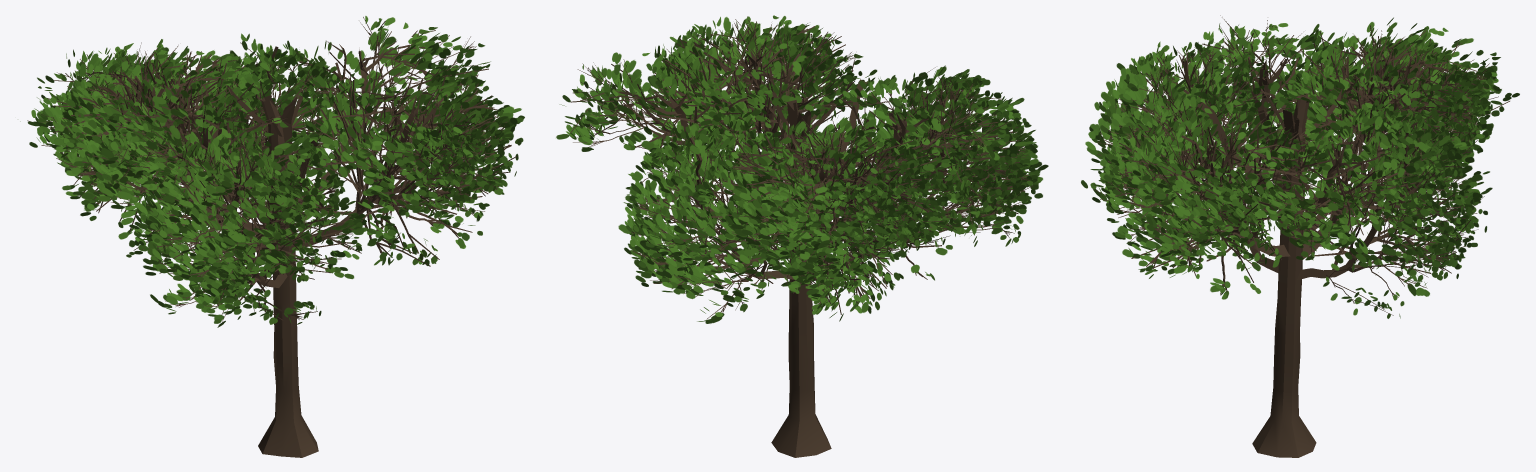
3 views of the same model, side by side, from view 1: azimuth 30°, elevation 25°; view 2: azimuth 150°, elevation 25°; view 3: azimuth 270°, elevation 25° (orthographic).
Parts seen in each view (by area): view 1: oak 01.001_trunk_Mat.001_0.084; view 2: oak 01.001_trunk_Mat.001_0.084; view 3: oak 01.001_trunk_Mat.001_0.084.
Boxes of the visible parts, x1,y1,x2,y2 form: oak 01.001_trunk_Mat.001_0.084: (20, 16, 524, 457); oak 01.001_trunk_Mat.001_0.084: (556, 15, 1048, 457); oak 01.001_trunk_Mat.001_0.084: (1081, 15, 1519, 457).
Bounding box in the file's own units: 5.19 × 4.35 × 4.85.
Materials: 2 (1 with a texture image).
